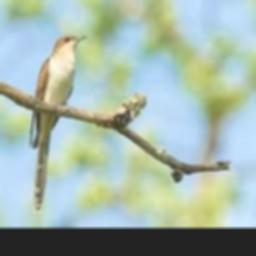Cuckoo: (28, 34, 89, 210)
